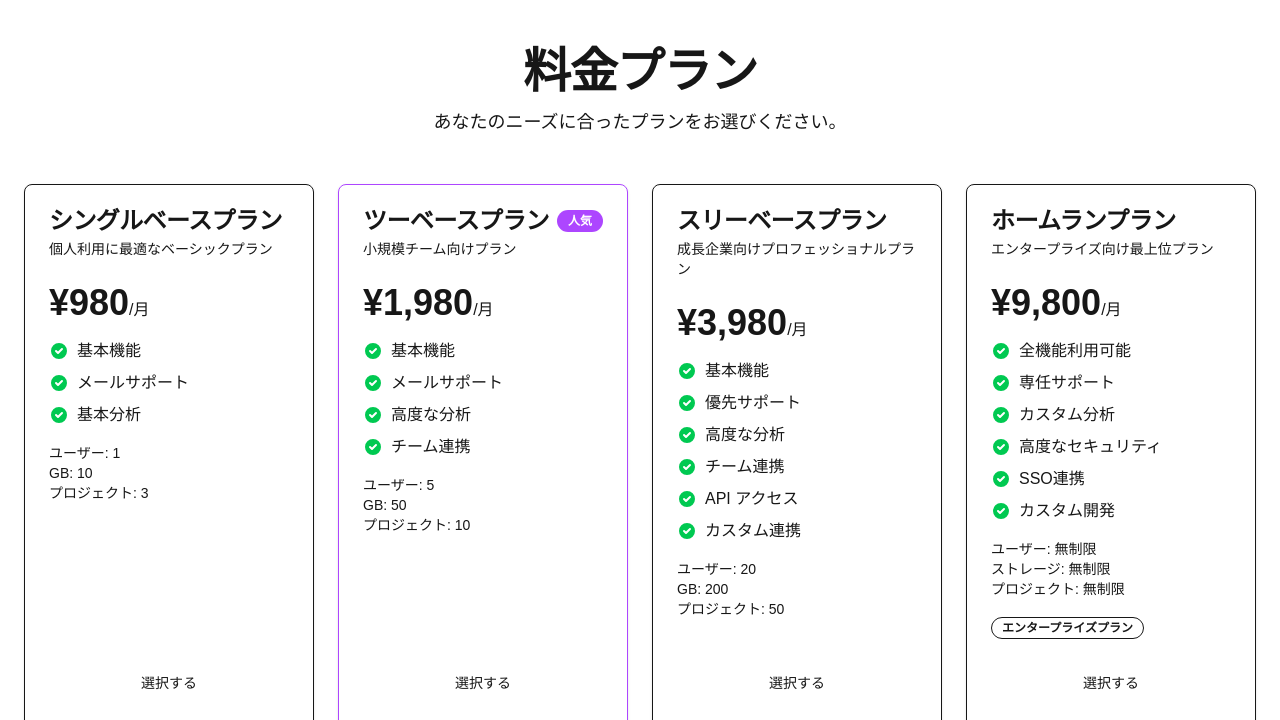
Test: SubscriptionPage Integration Test › should close the modal when the cancel button is clicked
Note: Open the modal first
Click the button "選択する" below "エンタープライズプラン" at (1111, 683), box [991,663,1231,703]
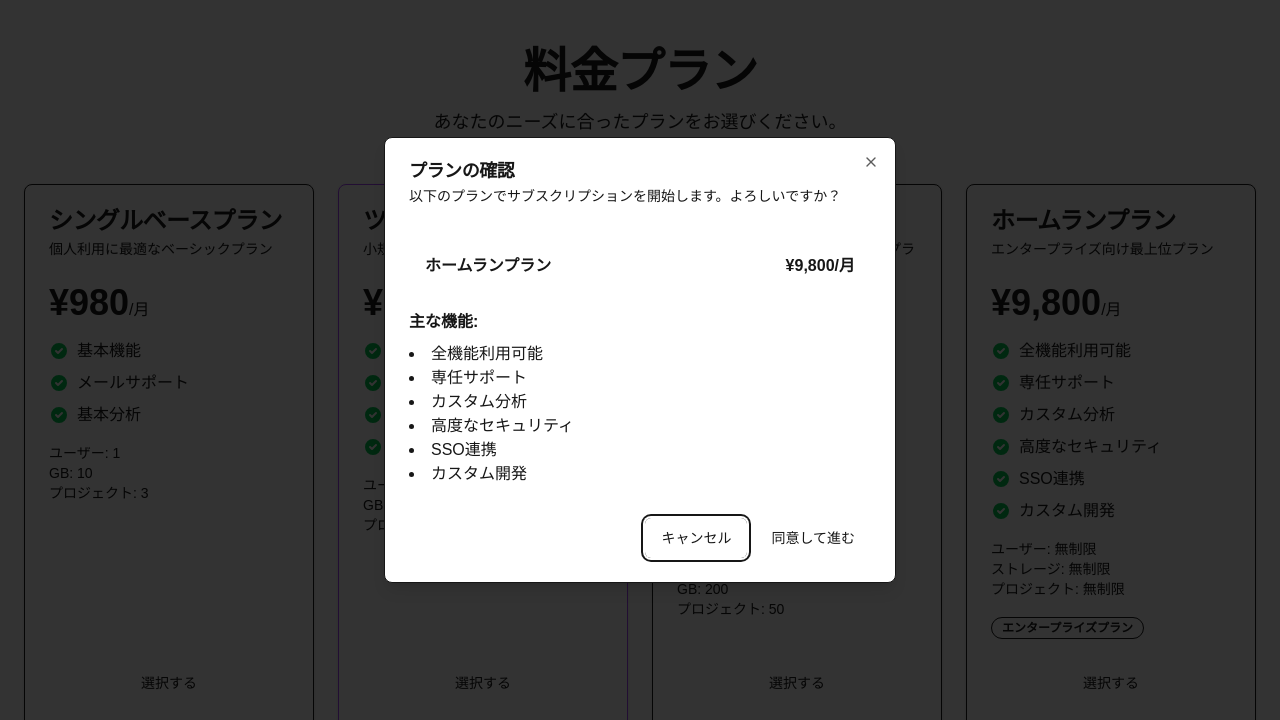
Expected: the dialog is shown, [384,137,896,583]
Note: Click the cancel button inside the modal
Click the button "キャンセル" at (696, 538), box [645,518,747,558]
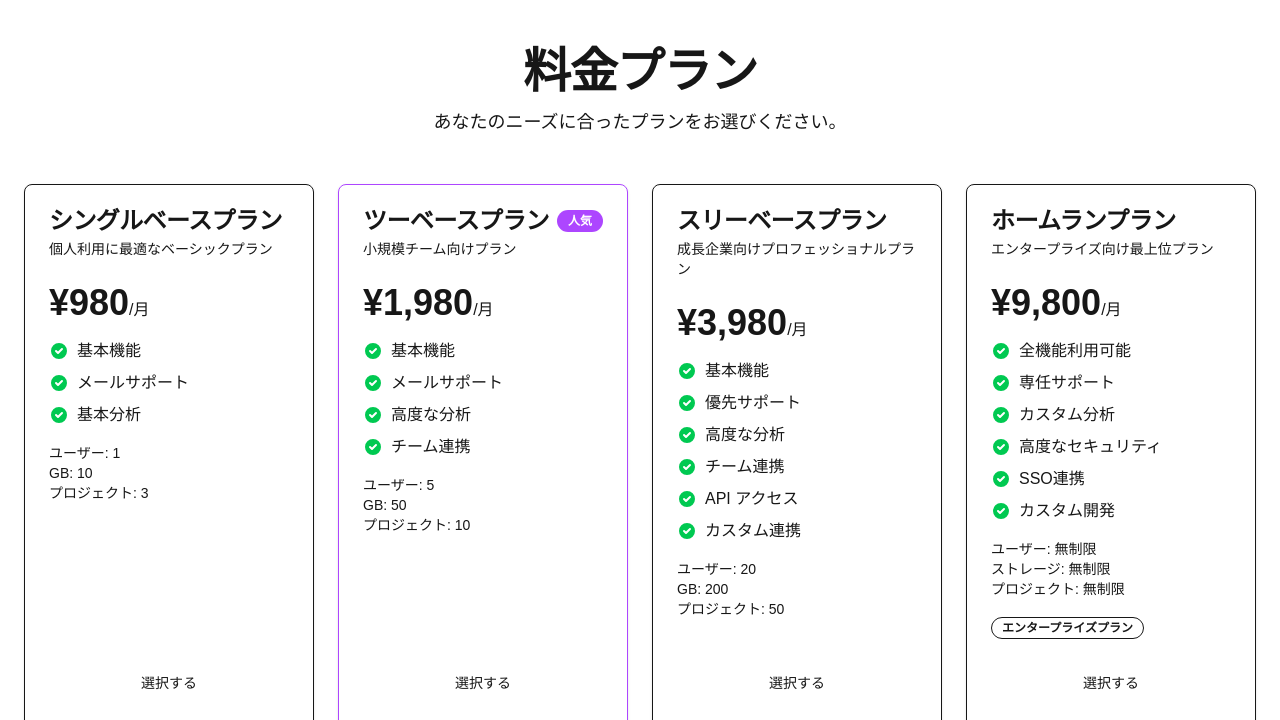
Expected: the dialog is gone
